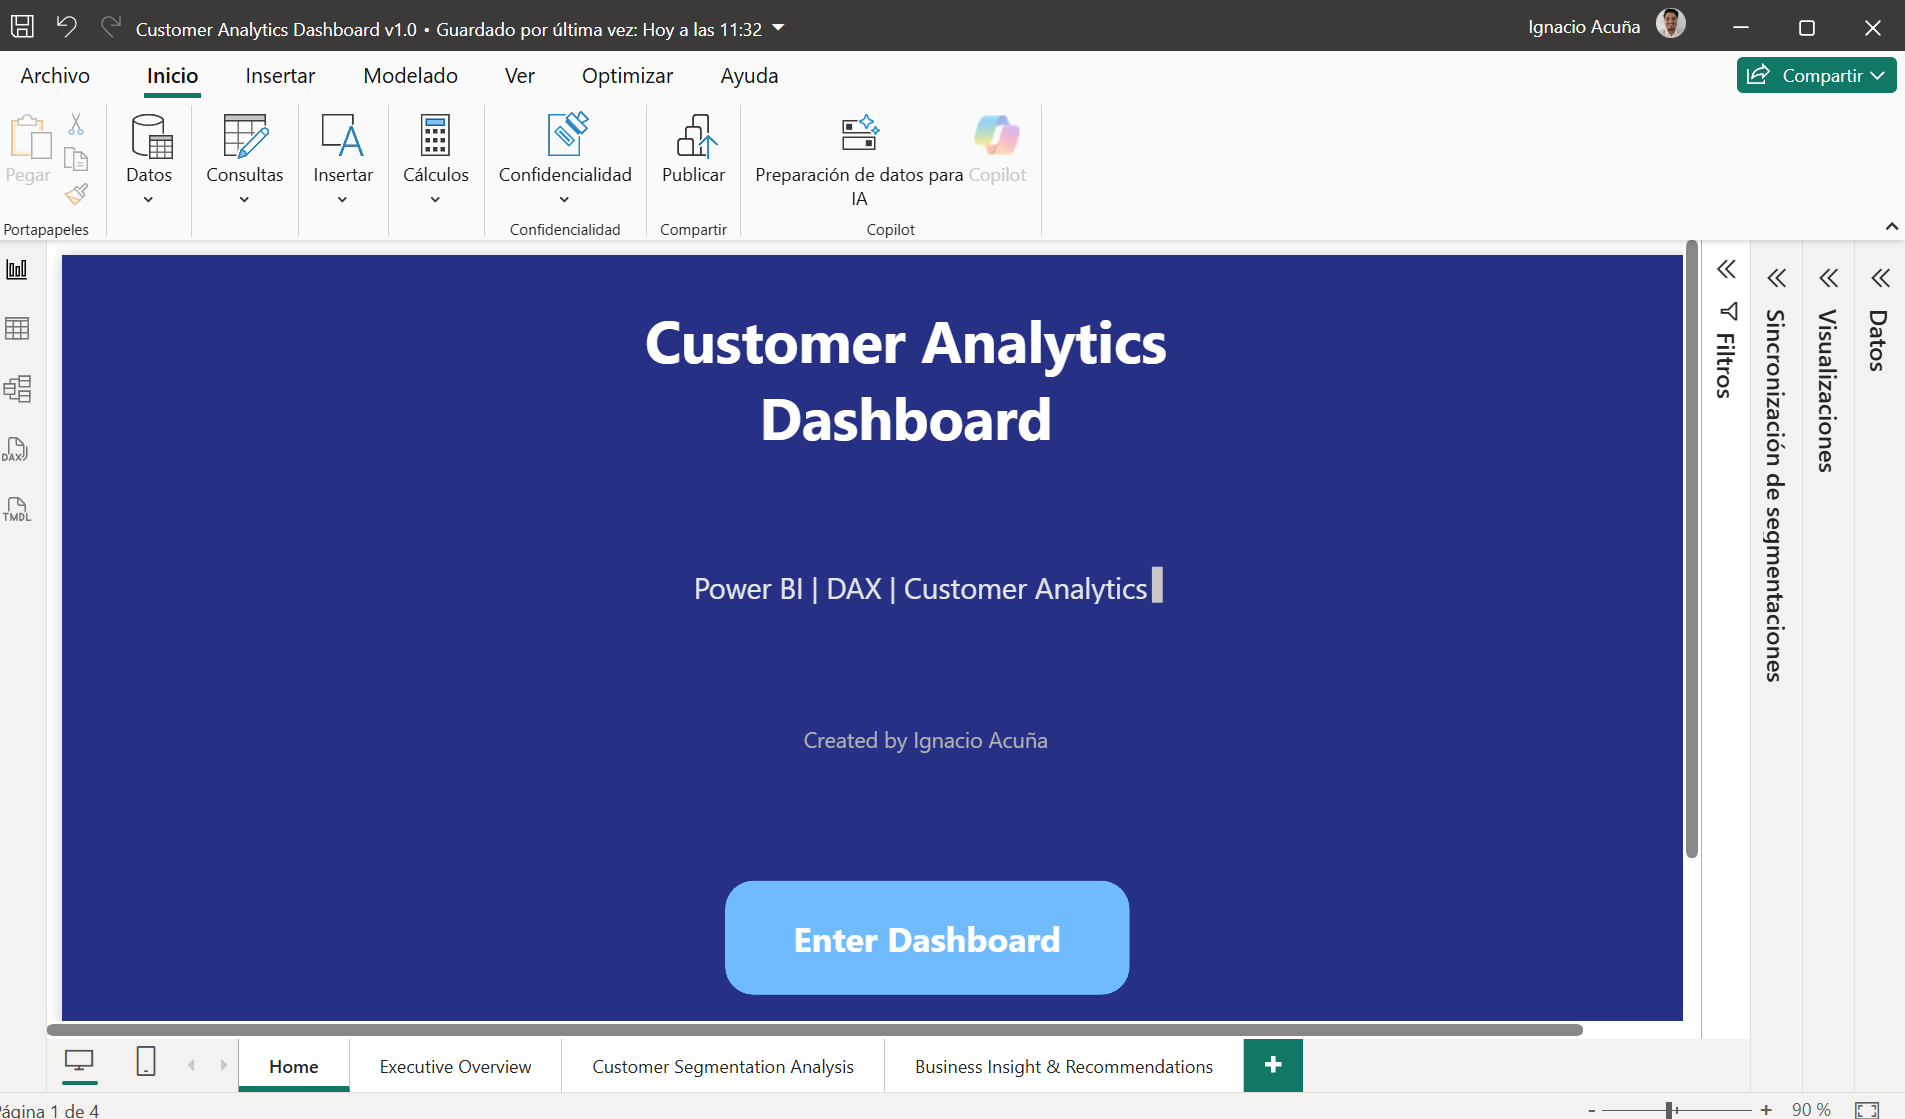

What the dashboard file says about the page in this screenshot:
{"tool":"powerbi","page":{"name":"Home","canvas":[1280,720],"ordinal":0},"visuals":[{"type":"textbox","box":[402.8,28.8,443.7,130.2],"z":0},{"type":"textbox","box":[460.3,225.6,360.4,37.9],"z":1000},{"type":"textbox","box":[492.1,342.2,295.3,34.8],"z":2000},{"type":"shape","box":[490.6,463.3,299.8,84.8],"z":3000}]}

Visuals, with their boxes on the page's 1280x720 design canvas (x1, y1, x2, y2). These are canvas units, not pixel positions in the 1905x1119 screenshot, which may show the page scaled, cropped or inside an application window:
textbox: <box>403,29,846,159</box>
textbox: <box>460,226,821,264</box>
textbox: <box>492,342,787,377</box>
shape: <box>491,463,790,548</box>
